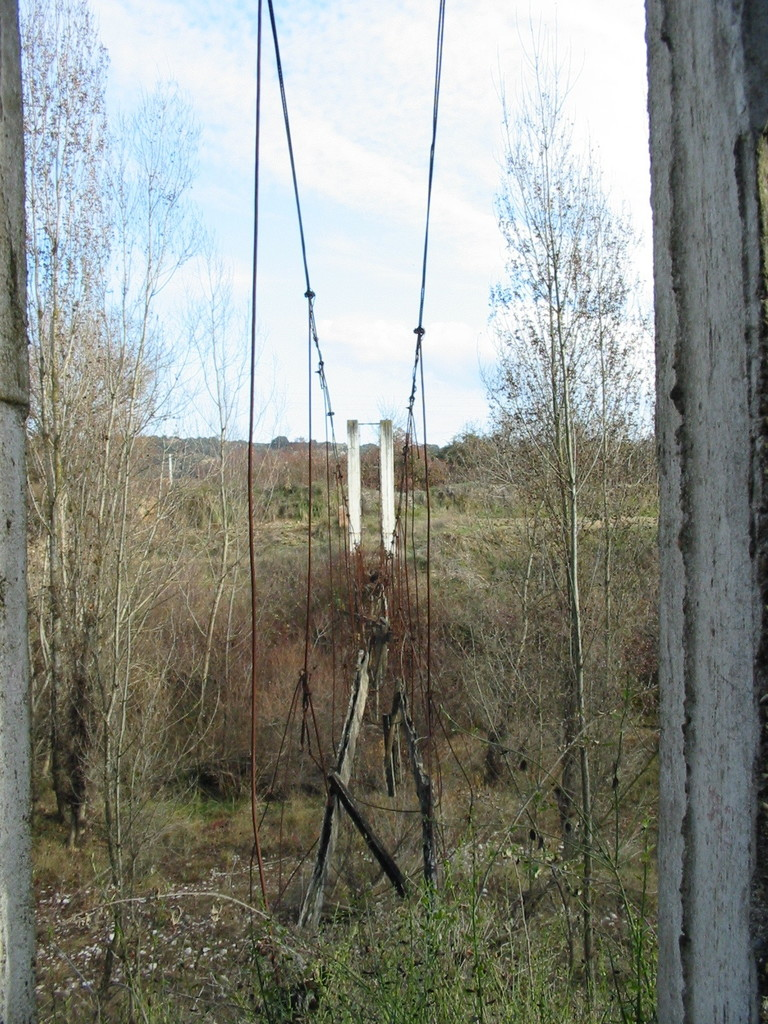Tree: (14, 0, 661, 1021)
